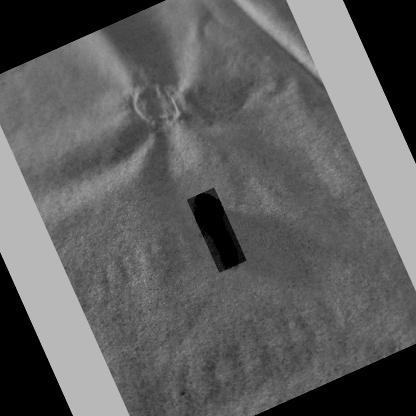baik: (193, 193, 238, 266)
